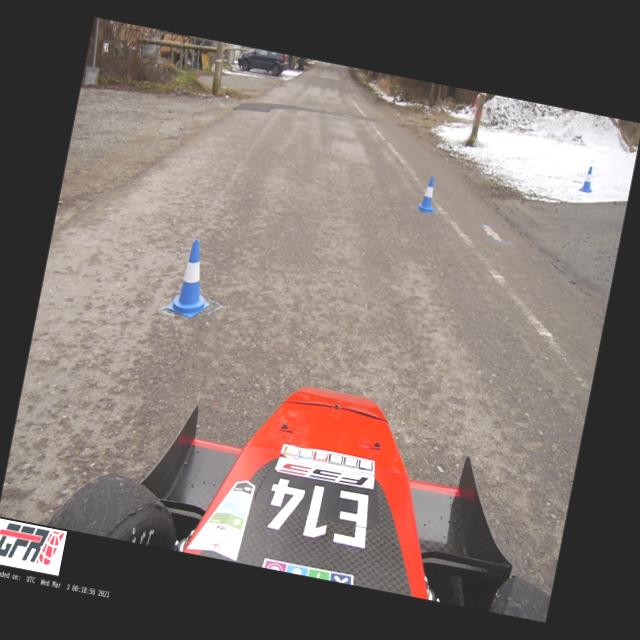blue_cone: (166, 237, 222, 321), (418, 175, 439, 213), (580, 165, 596, 192)
